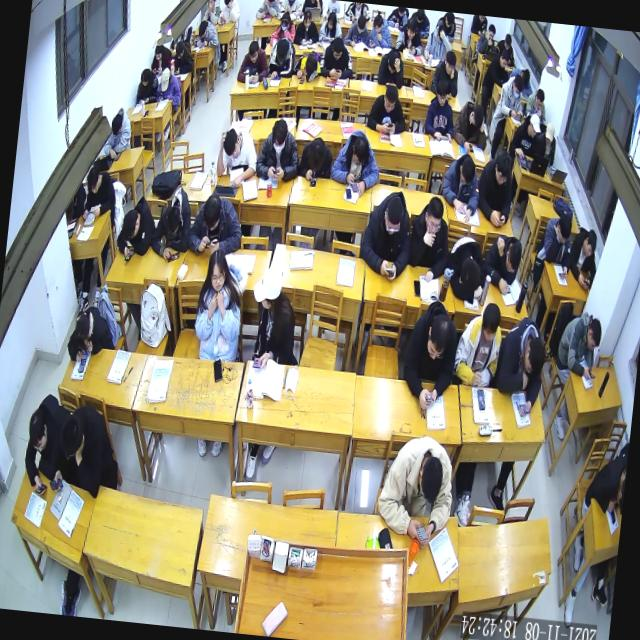bow: (491, 312, 548, 416), (187, 193, 245, 256), (150, 183, 195, 260), (555, 307, 603, 378), (442, 232, 488, 303), (438, 150, 482, 222), (114, 193, 158, 263), (65, 302, 115, 362), (580, 454, 628, 514), (482, 232, 523, 294), (450, 99, 491, 154), (292, 52, 322, 83), (193, 18, 222, 49), (255, 0, 280, 18)
down: (416, 455, 445, 505), (425, 311, 453, 361), (59, 418, 84, 456), (522, 336, 546, 374), (382, 195, 404, 236), (26, 411, 48, 451), (422, 196, 444, 236), (480, 302, 500, 345), (202, 193, 222, 230), (493, 150, 512, 184), (351, 134, 370, 168), (120, 208, 140, 239), (503, 240, 522, 272), (222, 130, 242, 160), (270, 119, 288, 152), (72, 314, 90, 346), (586, 318, 602, 352), (458, 156, 476, 186), (163, 204, 180, 234), (382, 83, 398, 112), (308, 135, 324, 164), (556, 214, 572, 243), (583, 228, 597, 258), (85, 166, 100, 192), (469, 102, 484, 128), (434, 81, 448, 107), (510, 74, 524, 100), (275, 38, 290, 62), (443, 50, 457, 75), (527, 114, 541, 139), (386, 51, 401, 73), (330, 37, 344, 60), (543, 120, 556, 144), (158, 68, 171, 92), (405, 16, 417, 40), (246, 40, 258, 63), (110, 114, 122, 136), (435, 23, 447, 44), (533, 87, 545, 108), (372, 14, 384, 34), (174, 41, 185, 60), (356, 13, 366, 33), (486, 22, 496, 42), (326, 10, 336, 29), (280, 12, 290, 31), (302, 9, 312, 27), (198, 20, 208, 37), (140, 70, 150, 86), (152, 44, 162, 60), (504, 31, 512, 50), (498, 54, 507, 68), (222, 0, 232, 8), (265, 0, 274, 6)
lookup: (206, 250, 228, 292), (207, 0, 216, 8)
sit: (372, 432, 458, 552), (47, 402, 124, 501), (398, 298, 461, 411), (245, 266, 308, 372), (190, 248, 248, 362), (356, 186, 416, 282), (21, 391, 66, 495), (452, 300, 504, 388), (406, 195, 453, 282), (328, 127, 382, 199), (486, 71, 526, 157), (474, 150, 516, 227), (255, 117, 302, 182), (214, 126, 259, 188), (532, 212, 574, 278), (366, 82, 408, 134), (422, 80, 457, 142), (566, 224, 598, 288), (82, 168, 118, 218), (297, 134, 334, 181), (103, 106, 134, 160), (318, 36, 356, 80), (429, 48, 462, 96), (236, 38, 270, 83), (508, 113, 542, 158), (267, 34, 297, 80), (376, 46, 406, 88), (394, 16, 425, 56), (154, 67, 182, 111), (292, 8, 321, 46), (482, 49, 510, 88), (342, 13, 372, 48), (536, 120, 558, 166), (367, 13, 394, 49), (135, 66, 160, 104), (270, 10, 296, 46), (171, 41, 196, 76), (524, 87, 548, 123), (318, 11, 343, 43), (493, 32, 517, 64), (476, 21, 498, 53), (150, 42, 172, 73), (217, 0, 241, 26), (201, 0, 220, 23)
